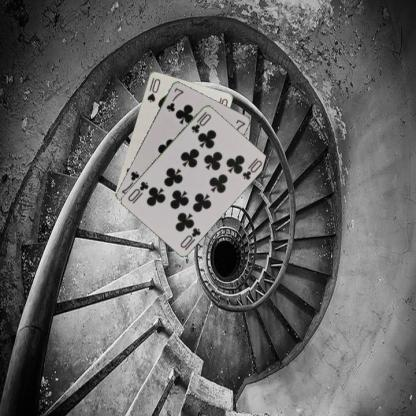10c: (188, 109, 212, 134), (178, 225, 202, 249)
10s: (145, 74, 162, 104)
7c: (163, 85, 185, 113)
